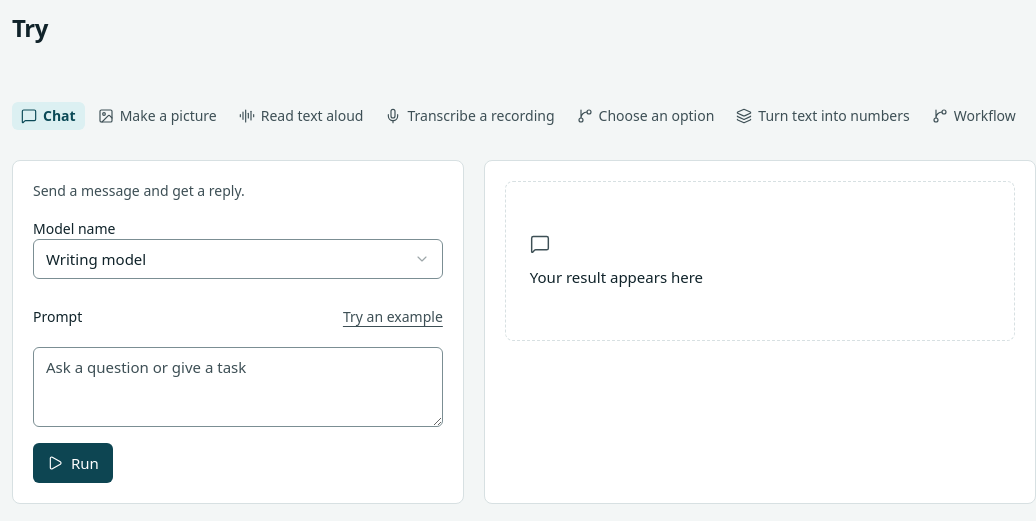
Test: Chat starts on an ordinary chat model, with an empty prompt › fills a sample prompt with Try an example
Click the button "Try an example" at (393, 317), box [343,295,443,339]
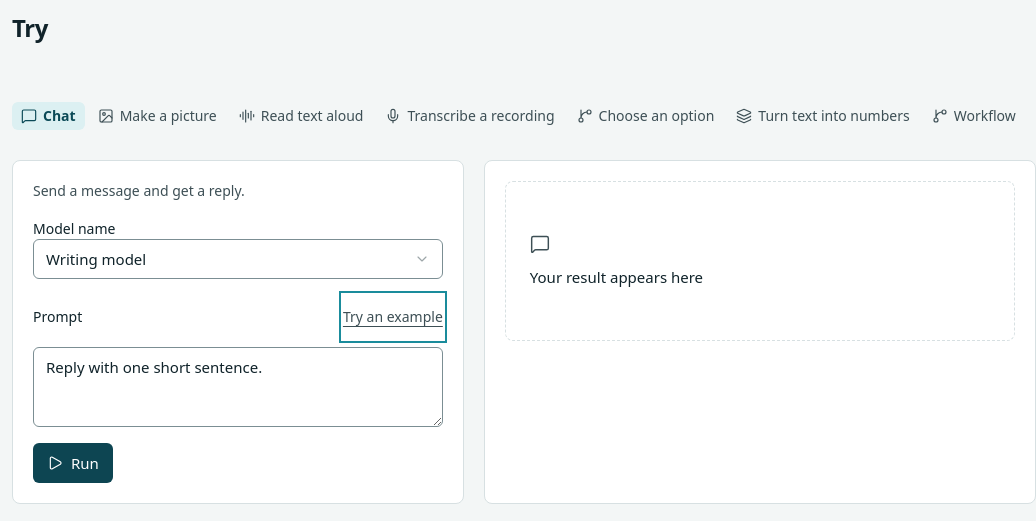
Expected: the text box labelled "Prompt" holds "Reply with one short sentence.", [33,347,443,427]
